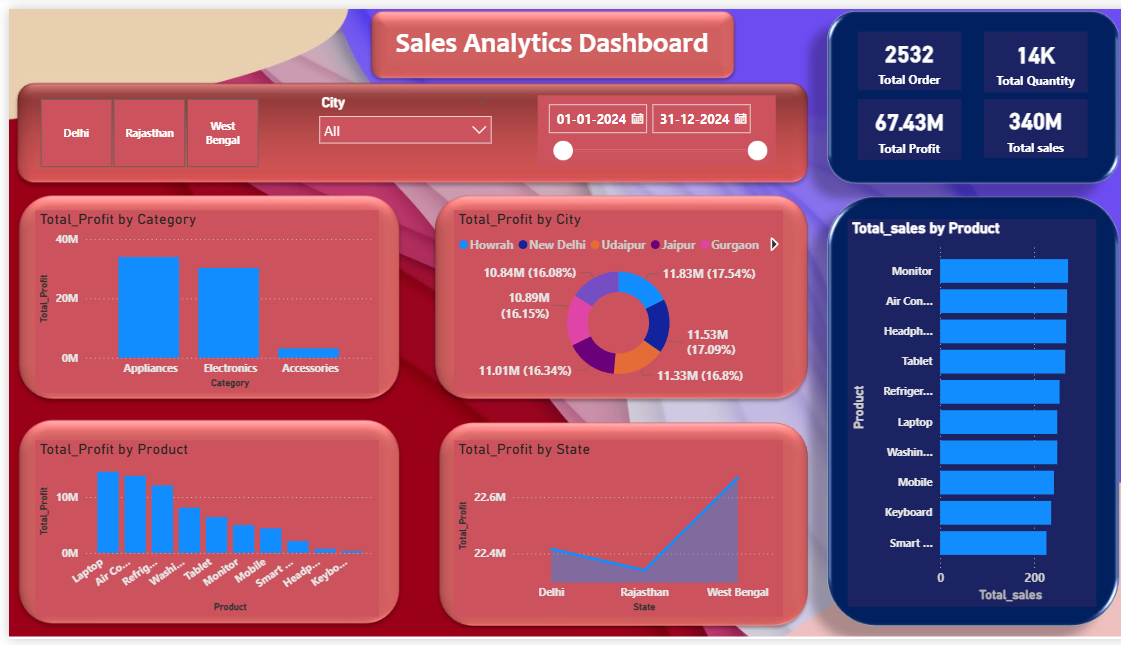

What the dashboard file says about the page in this screenshot:
{"tool":"powerbi","page":{"name":"Page 1","canvas":[1280,720],"ordinal":0},"visuals":[{"type":"textbox","box":[422.6,13.7,395.2,57.6],"z":0},{"type":"clusteredColumnChart","fields":{"Y":["Sum(Sales_data.Profit)"],"Category":["Sales_data.Category"]},"box":[30.2,230.5,392.5,208.6],"z":1000},{"type":"clusteredColumnChart","fields":{"Y":["Sum(Sales_data.Profit)"],"Category":["Sales_data.Product"]},"box":[30.2,492.6,392.5,201.7],"z":2000},{"type":"clusteredBarChart","fields":{"Y":["CountNonNull(Sales_data.Total_sales)"],"Category":["Sales_data.Product","Sales_data.Category","Sales_data.State"]},"box":[959.2,240.1,284,443.2],"z":3000},{"type":"card","fields":{"Values":["Sum(Sales_data.Profit)"]},"box":[970.2,102.9,118,70],"z":4000},{"type":"card","fields":{"Values":["Sum(Sales_data.Total_sales)"]},"box":[1114.2,102.9,118,67.2],"z":5000},{"type":"card","fields":{"Values":["Count(Sales_data.Order_ID)"]},"box":[970.2,26.1,118,67.2],"z":6000},{"type":"card","fields":{"Values":["Sum(Sales_data.Quantity)"]},"box":[1114.2,26.1,118,70],"z":7000},{"type":"slicer","fields":{"Values":["Sales_data.State"]},"box":[9.6,96.1,299.1,91.9],"z":8000},{"type":"slicer","fields":{"Values":["Sales_data.City"]},"box":[344.4,93.3,216.8,91.9],"z":9000},{"type":"donutChart","fields":{"Y":["Sum(Sales_data.Profit)"],"Category":["Sales_data.City"]},"box":[509.1,230.5,376,208.6],"z":10000},{"type":"areaChart","fields":{"Category":["Sales_data.State","Sales_data.Category"],"Y":["Sum(Sales_data.Profit)"]},"box":[509.1,492.6,376,201.7],"z":11000},{"type":"slicer","fields":{"Values":["Sales_data.Order_Date"]},"box":[603.8,98.8,271.7,79.6],"z":12000}]}

Visuals, with their boxes in screenshot pixels (x1, y1, x2, y2), scaled from the page's 1280x720 canvas onto the 1121x645 screenshot:
textbox: {"x1": 370, "y1": 12, "x2": 716, "y2": 64}
clusteredColumnChart - Sum(Sales_data.Profit) x Sales_data.Category: {"x1": 26, "y1": 206, "x2": 370, "y2": 393}
clusteredColumnChart - Sum(Sales_data.Profit) x Sales_data.Product: {"x1": 26, "y1": 441, "x2": 370, "y2": 622}
clusteredBarChart - CountNonNull(Sales_data.Total_sales) x Sales_data.Product: {"x1": 840, "y1": 215, "x2": 1089, "y2": 612}
card - Sum(Sales_data.Profit): {"x1": 850, "y1": 92, "x2": 953, "y2": 155}
card - Sum(Sales_data.Total_sales): {"x1": 976, "y1": 92, "x2": 1079, "y2": 152}
card - Count(Sales_data.Order_ID): {"x1": 850, "y1": 23, "x2": 953, "y2": 84}
card - Sum(Sales_data.Quantity): {"x1": 976, "y1": 23, "x2": 1079, "y2": 86}
slicer - Sales_data.State: {"x1": 8, "y1": 86, "x2": 270, "y2": 168}
slicer - Sales_data.City: {"x1": 302, "y1": 84, "x2": 491, "y2": 166}
donutChart - Sum(Sales_data.Profit) x Sales_data.City: {"x1": 446, "y1": 206, "x2": 775, "y2": 393}
areaChart - Sales_data.State x Sales_data.Category: {"x1": 446, "y1": 441, "x2": 775, "y2": 622}
slicer - Sales_data.Order_Date: {"x1": 529, "y1": 89, "x2": 767, "y2": 160}
